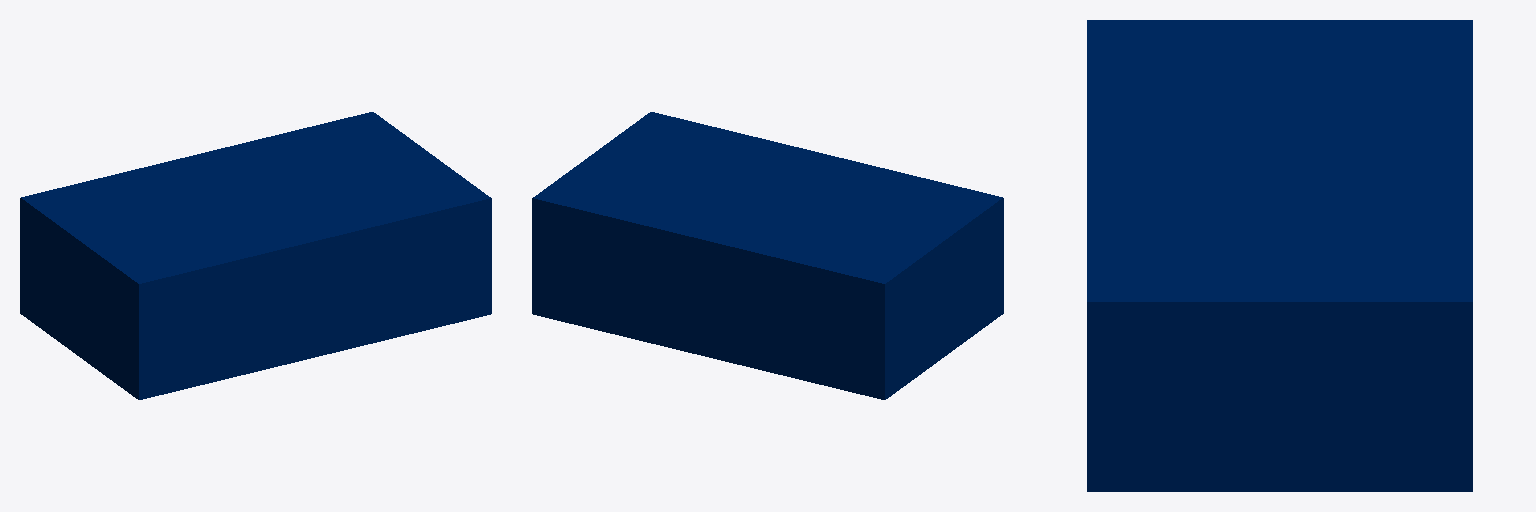
URDF robot description (model.urdf):
<?xml version="0.0" ?>
<robot name="model.urdf">

	<material name="navy_blue">
		<color rgba="0 0.18 0.42 1"/>
	</material>

	<link name="baseLink">
		<inertial>
			<mass value="0.120"/>
			<inertia  ixx="0.0001192" ixy="0.00"  ixz="0.00" iyy="0.0002993" iyz="0.00" izz="0.0003644" />
		</inertial>
		<visual>
			<origin xyz="0 0 0" rpy="0 0 0"/>
			<geometry>
				<box size="0.165 0.096 0.052"/>
			</geometry>
			<material name="navy_blue"/>
		</visual>
		<collision>
			<origin xyz="0 0 0" rpy="0 0 0"/>
			<geometry>
				<box size="0.165 0.096 0.052"/>
			</geometry>
		</collision>
	</link>
</robot>

--- What the picture shows (computed from the rendered views, not written in the file) ---
3 views of the same robot in one strip: view 1: azimuth 30°, elevation 25°; view 2: azimuth 150°, elevation 25°; view 3: azimuth 270°, elevation 25° (orthographic).
Model model.urdf with 1 links and 0 joints (none), rooted at baseLink, posed every joint at zero.
Links seen in each view (by area): view 1: baseLink; view 2: baseLink; view 3: baseLink.
Boxes of the visible links, x1,y1,x2,y2 form: baseLink: (20, 112, 491, 399); baseLink: (532, 112, 1003, 399); baseLink: (1087, 20, 1472, 491).
Bounding box of the posed robot: 0.165 × 0.096 × 0.052 m (x, y, z).
Geometry: primitives only (box / cylinder / sphere), no mesh files.